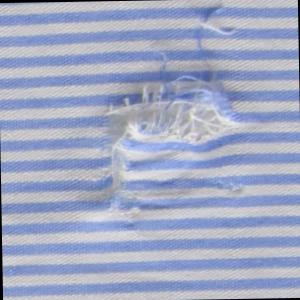Damage: (85, 3, 266, 238)
